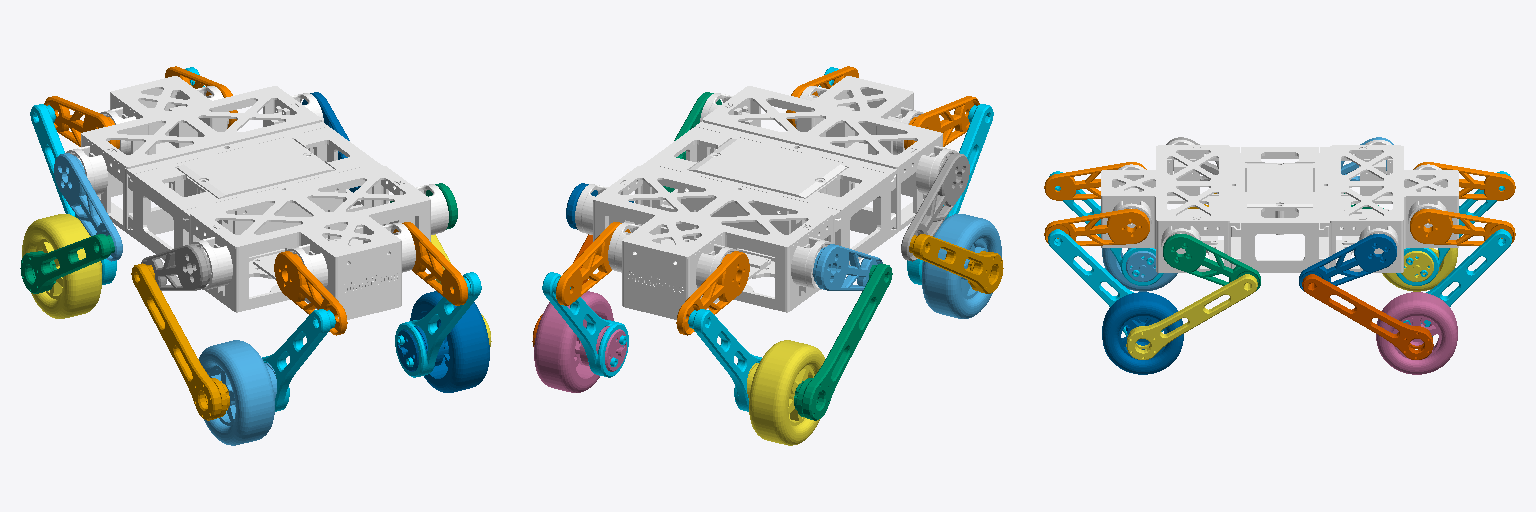
URDF robot description (stackforce_quadrupedal_wheeled_robot):
<?xml version='1.0' encoding='utf-8'?>
<robot name="stackforce_quadrupedal_wheeled_robot">
  <material name="white">
    <color rgba="1.0 1.0 1.0 1.0" />
  </material>
  <link name="base_link">
    <inertial>
      <origin xyz="0 0 0.02578814" rpy="0 0 0" />
      <mass value="0.87613947" />
      <inertia ixx="0.00641206" ixy="0.00001082" ixz="0.0" iyy="0.00176669" iyz="0.0" izz="0.00778386" />
    </inertial>
    <visual>
      <origin xyz="0 0 0" rpy="0 0 0" />
      <geometry>
        <mesh filename="../meshes/base_link.stl" />
      </geometry>
      <material name="white" />
    </visual>
    <collision>
      <origin xyz="0 0 -0.005" rpy="0 0 1.57" />
      <geometry>
        <box size="0.20 0.12 0.06" />
      </geometry>
    </collision>
  </link>
  <link name="FL_Outer_Thigh_Link">
    <inertial>
      <origin xyz="-0.01777009 0.00541634 -0.00866705" rpy="0 0 0" />
      <mass value="0.016" />
      <inertia ixx="0.00000245" ixy="0.00000007" ixz="-0.00000288" iyy="0.00000926" iyz="0.00000004" izz="0.00000695" />
    </inertial>
    <visual>
      <origin xyz="0 0 0" rpy="0 0 0" />
      <geometry>
        <mesh filename="../meshes/fl_outer_upper.stl" />
      </geometry>
    </visual>
    <collision>
      <origin xyz="-0.03 0.005 -0.013" rpy="0 -0.4 0" />
      <geometry>
        <box size="0.07 0.015 0.023" />
      </geometry>
    </collision>
  </link>
  <joint name="FL_Outer_Hip_Joint" type="revolute">
    <origin xyz="-0.0863 0.08 0.0063" rpy="0 0 1.5708" />
    <parent link="base_link" />
    <child link="FL_Outer_Thigh_Link" />
    <axis xyz="0 1 0" />
    <limit lower="-1.57" upper="1.57" effort="0.392" velocity="8.73" />
  </joint>
  <link name="FL_Outer_Calf_Link">
    <inertial>
      <origin xyz="0.04961562 0.00761681 -0.03100328" rpy="0 0 0" />
      <mass value="0.0176" />
      <inertia ixx="0.00000753" ixy="0.00000028" ixz="0.00001073" iyy="0.00002521" iyz="-0.00000017" izz="0.000018" />
    </inertial>
    <visual>
      <origin xyz="0 0 0" rpy="0 0 0" />
      <geometry>
        <mesh filename="../meshes/fl_outer_lower.stl" />
      </geometry>
    </visual>
    <collision>
      <origin xyz="0.05 0.007 -0.03" rpy="0 0.55 0" />
      <geometry>
        <box size="0.11 0.01 0.02" />
      </geometry>
    </collision>
  </link>
  <joint name="FL_Outer_Knee_Joint" type="revolute">
    <origin xyz="-0.053928 0.005 -0.026302" rpy="0 0 0" />
    <parent link="FL_Outer_Thigh_Link" />
    <child link="FL_Outer_Calf_Link" />
    <axis xyz="0 1 0" />
    <limit lower="-3.14159265359" upper="3.14159265359" effort="0.392" velocity="8.73" />
  </joint>
  <link name="FL_Foot_Link">
    <inertial>
      <origin xyz="0 -0.03564019 0" rpy="0 0 0" />
      <mass value="0.0855" />
      <inertia ixx="0.00002174" ixy="0" ixz="0" iyy="0.00002017" iyz="0" izz="0.00002172" />
    </inertial>
    <visual>
      <origin xyz="0 0 0" rpy="0 0 0" />
      <geometry>
        <mesh filename="../meshes/fl_foot.stl" />
      </geometry>
    </visual>
    <collision>
      <origin xyz="0 0 0" rpy="0 0 0" />
      <geometry>
        <mesh filename="../meshes/fl_foot.stl" />
      </geometry>
    </collision>
  </link>
  <joint name="FL_Wheel_Joint" type="revolute">
    <origin xyz="0.084805 0.006 -0.052992" rpy="0 0 0" />
    <parent link="FL_Outer_Calf_Link" />
    <child link="FL_Foot_Link" />
    <axis xyz="0 1 0" />
    <limit lower="-999999" upper="999999" effort="1" velocity="40" />
  </joint>
  <link name="FR_Outer_Thigh_Link">
    <inertial>
      <origin xyz="-0.01777009 -0.00541634 -0.00866705" rpy="0 0 0" />
      <mass value="0.016" />
      <inertia ixx="0.00000245" ixy="-0.00000007" ixz="-0.00000288" iyy="0.00000926" iyz="-0.00000004" izz="0.00000695" />
    </inertial>
    <visual>
      <origin xyz="0 0 0" rpy="0 0 0" />
      <geometry>
        <mesh filename="../meshes/fr_outer_upper.stl" />
      </geometry>
    </visual>
    <collision>
      <origin xyz="-0.03 -0.005 -0.013" rpy="0 -0.4 0" />
      <geometry>
        <box size="0.07 0.015 0.023" />
      </geometry>
    </collision>
  </link>
  <joint name="FR_Outer_Hip_Joint" type="revolute">
    <origin xyz="0.0863 0.08 0.0063" rpy="0 0 1.5708" />
    <parent link="base_link" />
    <child link="FR_Outer_Thigh_Link" />
    <axis xyz="0 1 0" />
    <limit lower="-1.57" upper="1.57" effort="0.392" velocity="8.73" />
  </joint>
  <link name="FR_Outer_Calf_Link">
    <inertial>
      <origin xyz="0.04961563 -0.00761681 -0.03100328" rpy="0 0 0" />
      <mass value="0.0176" />
      <inertia ixx="0.00000753" ixy="-0.00000028" ixz="0.00001073" iyy="0.00002521" iyz="0.00000017" izz="0.000018" />
    </inertial>
    <visual>
      <origin xyz="0 0 0" rpy="0 0 0" />
      <geometry>
        <mesh filename="../meshes/fr_outer_lower.stl" />
      </geometry>
    </visual>
    <collision>
      <origin xyz="0.05 -0.007 -0.03" rpy="0 0.55 0" />
      <geometry>
        <box size="0.11 0.01 0.02" />
      </geometry>
    </collision>
  </link>
  <joint name="FR_Outer_Knee_Joint" type="revolute">
    <origin xyz="-0.053928 -0.005 -0.026302" rpy="0 0 0" />
    <parent link="FR_Outer_Thigh_Link" />
    <child link="FR_Outer_Calf_Link" />
    <axis xyz="0 1 0" />
    <limit lower="-3.14159265359" upper="3.14159265359" effort="0.392" velocity="8.73" />
  </joint>
  <link name="FR_Foot_Link">
    <inertial>
      <origin xyz="0 0.03564019 0" rpy="0 0 0" />
      <mass value="0.0855" />
      <inertia ixx="0.00002174" ixy="0" ixz="0" iyy="0.00002017" iyz="0" izz="0.00002172" />
    </inertial>
    <visual>
      <origin xyz="0 0 0" rpy="0 0 0" />
      <geometry>
        <mesh filename="../meshes/fr_foot.stl" />
      </geometry>
    </visual>
    <collision>
      <origin xyz="0 0 0" rpy="0 0 0" />
      <geometry>
        <mesh filename="../meshes/fr_foot.stl" />
      </geometry>
    </collision>
  </link>
  <joint name="FR_Wheel_Joint" type="revolute">
    <origin xyz="0.084805 -0.006 -0.052992" rpy="0 0 0" />
    <parent link="FR_Outer_Calf_Link" />
    <child link="FR_Foot_Link" />
    <axis xyz="0 1 0" />
    <limit lower="-999999" upper="999999" effort="1" velocity="40" />
  </joint>
  <link name="RL_Outer_Thigh_Link">
    <inertial>
      <origin xyz="0.01777009 0.00541634 -0.00866705" rpy="0 0 0" />
      <mass value="0.016" />
      <inertia ixx="0.00000245" ixy="-0.00000007" ixz="0.00000288" iyy="0.00000926" iyz="0.00000004" izz="0.00000695" />
    </inertial>
    <visual>
      <origin xyz="0 0 0" rpy="0 0 0" />
      <geometry>
        <mesh filename="../meshes/rl_outer_upper.stl" />
      </geometry>
    </visual>
    <collision>
      <origin xyz="0.03 0.005 -0.013" rpy="0 0.4 0" />
      <geometry>
        <box size="0.07 0.015 0.023" />
      </geometry>
    </collision>
  </link>
  <joint name="RL_Outer_Hip_Joint" type="revolute">
    <origin xyz="-0.0863 -0.08 0.0063" rpy="0 0 1.5708" />
    <parent link="base_link" />
    <child link="RL_Outer_Thigh_Link" />
    <axis xyz="0 1 0" />
    <limit lower="-1.57" upper="1.57" effort="0.392" velocity="8.73" />
  </joint>
  <link name="RL_Outer_Calf_Link">
    <inertial>
      <origin xyz="-0.04961562 0.00761681 -0.03100328" rpy="0 0 0" />
      <mass value="0.0176" />
      <inertia ixx="0.00000753" ixy="-0.00000028" ixz="-0.00001073" iyy="0.00002521" iyz="-0.00000017" izz="0.000018" />
    </inertial>
    <visual>
      <origin xyz="0 0 0" rpy="0 0 0" />
      <geometry>
        <mesh filename="../meshes/rl_outer_lower.stl" />
      </geometry>
    </visual>
    <collision>
      <origin xyz="-0.05 0.007 -0.03" rpy="0 -0.55 0" />
      <geometry>
        <box size="0.11 0.01 0.02" />
      </geometry>
    </collision>
  </link>
  <joint name="RL_Outer_Knee_Joint" type="revolute">
    <origin xyz="0.053928 0.005 -0.026302" rpy="0 0 0" />
    <parent link="RL_Outer_Thigh_Link" />
    <child link="RL_Outer_Calf_Link" />
    <axis xyz="0 1 0" />
    <limit lower="-3.14159265359" upper="3.14159265359" effort="0.392" velocity="8.73" />
  </joint>
  <link name="RL_Foot_Link">
    <inertial>
      <origin xyz="0 -0.03564019 0" rpy="0 0 0" />
      <mass value="0.0855" />
      <inertia ixx="0.00002174" ixy="0" ixz="0" iyy="0.00002017" iyz="0" izz="0.00002172" />
    </inertial>
    <visual>
      <origin xyz="0 0 0" rpy="0 0 0" />
      <geometry>
        <mesh filename="../meshes/rl_foot.stl" />
      </geometry>
    </visual>
    <collision>
      <origin xyz="0 0 0" rpy="0 0 0" />
      <geometry>
        <mesh filename="../meshes/rl_foot.stl" />
      </geometry>
    </collision>
  </link>
  <joint name="RL_Wheel_Joint" type="revolute">
    <origin xyz="-0.084805 0.006 -0.052992" rpy="0 0 0" />
    <parent link="RL_Outer_Calf_Link" />
    <child link="RL_Foot_Link" />
    <axis xyz="0 1 0" />
    <limit lower="-999999" upper="999999" effort="1" velocity="40" />
  </joint>
  <link name="RR_Outer_Thigh_Link">
    <inertial>
      <origin xyz="0.01777009 -0.00541634 -0.00866705" rpy="0 0 0" />
      <mass value="0.016" />
      <inertia ixx="0.00000245" ixy="0.00000007" ixz="0.00000288" iyy="0.00000926" iyz="-0.00000004" izz="0.00000695" />
    </inertial>
    <visual>
      <origin xyz="0 0 0" rpy="0 0 0" />
      <geometry>
        <mesh filename="../meshes/rr_outer_upper.stl" />
      </geometry>
    </visual>
    <collision>
      <origin xyz="0.03 -0.005 -0.013" rpy="0 0.4 0" />
      <geometry>
        <box size="0.07 0.015 0.023" />
      </geometry>
    </collision>
  </link>
  <joint name="RR_Outer_Hip_Joint" type="revolute">
    <origin xyz="0.0863 -0.08 0.0063" rpy="0 0 1.5708" />
    <parent link="base_link" />
    <child link="RR_Outer_Thigh_Link" />
    <axis xyz="0 1 0" />
    <limit lower="-1.57" upper="1.57" effort="0.392" velocity="8.73" />
  </joint>
  <link name="RR_Outer_Calf_Link">
    <inertial>
      <origin xyz="-0.04961562 -0.00761681 -0.03100328" rpy="0 0 0" />
      <mass value="0.0176" />
      <inertia ixx="0.00000753" ixy="0.00000028" ixz="-0.00001073" iyy="0.00002521" iyz="0.00000017" izz="0.000018" />
    </inertial>
    <visual>
      <origin xyz="0 0 0" rpy="0 0 0" />
      <geometry>
        <mesh filename="../meshes/rr_outer_lower.stl" />
      </geometry>
    </visual>
    <collision>
      <origin xyz="-0.05 -0.007 -0.03" rpy="0 -0.55 0" />
      <geometry>
        <box size="0.11 0.01 0.02" />
      </geometry>
    </collision>
  </link>
  <joint name="RR_Outer_Knee_Joint" type="revolute">
    <origin xyz="0.053928 -0.005 -0.026302" rpy="0 0 0" />
    <parent link="RR_Outer_Thigh_Link" />
    <child link="RR_Outer_Calf_Link" />
    <axis xyz="0 1 0" />
    <limit lower="-3.14159265359" upper="3.14159265359" effort="0.392" velocity="8.73" />
  </joint>
  <link name="RR_Foot_Link">
    <inertial>
      <origin xyz="0 0.03564019 0" rpy="0 0 0" />
      <mass value="0.0855" />
      <inertia ixx="0.00002174" ixy="0" ixz="0" iyy="0.00002017" iyz="0" izz="0.00002172" />
    </inertial>
    <visual>
      <origin xyz="0 0 0" rpy="0 0 0" />
      <geometry>
        <mesh filename="../meshes/rr_foot.stl" />
      </geometry>
    </visual>
    <collision>
      <origin xyz="0 0 0" rpy="0 0 0" />
      <geometry>
        <mesh filename="../meshes/rr_foot.stl" />
      </geometry>
    </collision>
  </link>
  <joint name="RR_Wheel_Joint" type="revolute">
    <origin xyz="-0.084805 -0.006 -0.052992" rpy="0 0 0" />
    <parent link="RR_Outer_Calf_Link" />
    <child link="RR_Foot_Link" />
    <axis xyz="0 1 0" />
    <limit lower="-999999" upper="999999" effort="1" velocity="40" />
  </joint>
  <material name="inner_upper_yellow">
    <color rgba="1.0 0.55 0.0 1.0" />
  </material>
  <material name="inner_lower_cyan">
    <color rgba="0.0 0.85 1.0 1.0" />
  </material>
  <link name="FR_Inner_Thigh_Link">
    <inertial>
      <origin xyz="0.00450000216243 0.0278090037126 -0.0013947300043" rpy="0 0 0" />
      <mass value="0.016" />
      <inertia ixx="1.12047922055e-05" ixy="0" ixz="0" iyy="1.54145144863e-06" iyz="0" izz="9.87934556627e-06" />
    </inertial>
    <visual>
      <origin xyz="0 0 0" rpy="0 0 0" />
      <geometry>
        <mesh filename="../meshes/fr_inner_upper.stl" />
      </geometry>
      <material name="inner_upper_yellow" />
    </visual>
    <collision>
      <origin xyz="0 0 0" rpy="0 0 0" />
      <geometry>
        <mesh filename="../meshes/fr_inner_upper.stl" />
      </geometry>
    </collision>
  </link>
  <joint name="FR_Inner_Hip_Joint" type="revolute">
    <origin xyz="0.0387 0.12007 0.006372" rpy="0 0 0" />
    <parent link="base_link" />
    <child link="FR_Inner_Thigh_Link" />
    <axis xyz="0.999999999993 3.74314770824e-06 0" />
    <limit lower="-3.14159265359" upper="3.14159265359" effort="0.392" velocity="8.73" />
  </joint>
  <link name="FR_Inner_Calf_Link">
    <inertial>
      <origin xyz="0.013650277747 -0.0393966939209 -0.0412882533456" rpy="0 0 0" />
      <mass value="0.0176" />
      <inertia ixx="2.74219956869e-05" ixy="0" ixz="0" iyy="1.45328303828e-05" iyz="0" izz="1.34641067812e-05" />
    </inertial>
    <visual>
      <origin xyz="0 0 0" rpy="0 0 0" />
      <geometry>
        <mesh filename="../meshes/fr_inner_lower.stl" />
      </geometry>
      <material name="inner_lower_cyan" />
    </visual>
    <collision>
      <origin xyz="0 0 0" rpy="0 0 0" />
      <geometry>
        <mesh filename="../meshes/fr_inner_lower.stl" />
      </geometry>
    </collision>
  </link>
  <joint name="FR_Inner_Knee_Joint" type="revolute">
    <origin xyz="-2.23141383385e-07 0.0596132989602 -0.00680107249104" rpy="0 0 0" />
    <parent link="FR_Inner_Thigh_Link" />
    <child link="FR_Inner_Calf_Link" />
    <axis xyz="0.999999999993 3.74314770824e-06 0" />
    <limit lower="-3.14159265359" upper="3.14159265359" effort="0.392" velocity="8.73" />
  </joint>
  <link name="FR_Wheel_Frame" />
  <joint name="FR_Wheel_Frame_Joint" type="fixed">
    <origin xyz="1.38777878078e-17 0 0" rpy="0 0 0" />
    <parent link="FR_Foot_Link" />
    <child link="FR_Wheel_Frame" />
  </joint>
  <link name="FR_Closure_Frame" />
  <joint name="FR_Closure_Frame_Joint" type="fixed">
    <origin xyz="0.0136502603188 -0.0688064260397 -0.072564927509" rpy="0 0 0" />
    <parent link="FR_Inner_Calf_Link" />
    <child link="FR_Closure_Frame" />
  </joint>
  <link name="FL_Inner_Thigh_Link">
    <inertial>
      <origin xyz="-0.004500003804 0.0278090037126 -0.0013947300043" rpy="0 0 0" />
      <mass value="0.016" />
      <inertia ixx="1.12047922055e-05" ixy="0" ixz="0" iyy="1.54145144863e-06" iyz="0" izz="9.87934556627e-06" />
    </inertial>
    <visual>
      <origin xyz="0 0 0" rpy="0 0 0" />
      <geometry>
        <mesh filename="../meshes/fl_inner_upper.stl" />
      </geometry>
      <material name="inner_upper_yellow" />
    </visual>
    <collision>
      <origin xyz="0 0 0" rpy="0 0 0" />
      <geometry>
        <mesh filename="../meshes/fl_inner_upper.stl" />
      </geometry>
    </collision>
  </link>
  <joint name="FL_Inner_Hip_Joint" type="revolute">
    <origin xyz="-0.0387 0.12007 0.006372" rpy="0 0 0" />
    <parent link="base_link" />
    <child link="FL_Inner_Thigh_Link" />
    <axis xyz="-0.999999999993 3.74314770824e-06 0" />
    <limit lower="-3.14159265359" upper="3.14159265359" effort="0.392" velocity="8.73" />
  </joint>
  <link name="FL_Inner_Calf_Link">
    <inertial>
      <origin xyz="-0.0136502793885 -0.0393966939209 -0.0412882533456" rpy="0 0 0" />
      <mass value="0.0176" />
      <inertia ixx="2.74219956869e-05" ixy="0" ixz="0" iyy="1.45328303828e-05" iyz="0" izz="1.34641067812e-05" />
    </inertial>
    <visual>
      <origin xyz="0 0 0" rpy="0 0 0" />
      <geometry>
        <mesh filename="../meshes/fl_inner_lower.stl" />
      </geometry>
      <material name="inner_lower_cyan" />
    </visual>
    <collision>
      <origin xyz="0 0 0" rpy="0 0 0" />
      <geometry>
        <mesh filename="../meshes/fl_inner_lower.stl" />
      </geometry>
    </collision>
  </link>
  <joint name="FL_Inner_Knee_Joint" type="revolute">
    <origin xyz="2.23141383385e-07 0.0596132989602 -0.00680107249104" rpy="0 0 0" />
    <parent link="FL_Inner_Thigh_Link" />
    <child link="FL_Inner_Calf_Link" />
    <axis xyz="-0.999999999993 3.74314770824e-06 0" />
    <limit lower="-3.14159265359" upper="3.14159265359" effort="0.392" velocity="8.73" />
  </joint>
  <link name="FL_Wheel_Frame" />
  <joint name="FL_Wheel_Frame_Joint" type="fixed">
    <origin xyz="8.23483843476e-08 -2.31154651809e-07 0" rpy="0 0 0" />
    <parent link="FL_Foot_Link" />
    <child link="FL_Wheel_Frame" />
  </joint>
  <link name="FL_Closure_Frame" />
  <joint name="FL_Closure_Frame_Joint" type="fixed">
    <origin xyz="-0.0136502603188 -0.0688064260397 -0.072564927509" rpy="0 0 0" />
    <parent link="FL_Inner_Calf_Link" />
    <child link="FL_Closure_Frame" />
  </joint>
  <link name="RL_Inner_Thigh_Link">
    <inertial>
      <origin xyz="-0.004500003804 -0.027809001519 -0.0013947300043" rpy="0 0 0" />
      <mass value="0.016" />
      <inertia ixx="1.12047905046e-05" ixy="0" ixz="0" iyy="1.54145144863e-06" iyz="0" izz="9.87934386541e-06" />
    </inertial>
    <visual>
      <origin xyz="0 0 0" rpy="0 0 0" />
      <geometry>
        <mesh filename="../meshes/rl_inner_upper.stl" />
      </geometry>
      <material name="inner_upper_yellow" />
    </visual>
    <collision>
      <origin xyz="0 0 0" rpy="0 0 0" />
      <geometry>
        <mesh filename="../meshes/rl_inner_upper.stl" />
      </geometry>
    </collision>
  </link>
  <joint name="RL_Inner_Hip_Joint" type="revolute">
    <origin xyz="-0.0387 -0.12007 0.006372" rpy="0 0 0" />
    <parent link="base_link" />
    <child link="RL_Inner_Thigh_Link" />
    <axis xyz="-0.999999999993 -3.74314770824e-06 0" />
    <limit lower="-3.14159265359" upper="3.14159265359" effort="0.392" velocity="8.73" />
  </joint>
  <link name="RL_Inner_Calf_Link">
    <inertial>
      <origin xyz="-0.0136502793885 0.0393966961146 -0.0412882533456" rpy="0 0 0" />
      <mass value="0.0176" />
      <inertia ixx="2.74219936154e-05" ixy="0" ixz="0" iyy="1.45328303828e-05" iyz="0" izz="1.34641047096e-05" />
    </inertial>
    <visual>
      <origin xyz="0 0 0" rpy="0 0 0" />
      <geometry>
        <mesh filename="../meshes/rl_inner_lower.stl" />
      </geometry>
      <material name="inner_lower_cyan" />
    </visual>
    <collision>
      <origin xyz="0 0 0" rpy="0 0 0" />
      <geometry>
        <mesh filename="../meshes/rl_inner_lower.stl" />
      </geometry>
    </collision>
  </link>
  <joint name="RL_Inner_Knee_Joint" type="revolute">
    <origin xyz="2.23141383385e-07 -0.0596132989602 -0.00680107249104" rpy="0 0 0" />
    <parent link="RL_Inner_Thigh_Link" />
    <child link="RL_Inner_Calf_Link" />
    <axis xyz="-0.999999999993 -3.74314770824e-06 0" />
    <limit lower="-3.14159265359" upper="3.14159265359" effort="0.392" velocity="8.73" />
  </joint>
  <link name="RL_Wheel_Frame" />
  <joint name="RL_Wheel_Frame_Joint" type="fixed">
    <origin xyz="-1.38777878078e-17 0 0" rpy="0 0 0" />
    <parent link="RL_Foot_Link" />
    <child link="RL_Wheel_Frame" />
  </joint>
  <link name="RL_Closure_Frame" />
  <joint name="RL_Closure_Frame_Joint" type="fixed">
    <origin xyz="-0.0136502603188 0.0688064260397 -0.072564927509" rpy="0 0 0" />
    <parent link="RL_Inner_Calf_Link" />
    <child link="RL_Closure_Frame" />
  </joint>
  <link name="RR_Inner_Thigh_Link">
    <inertial>
      <origin xyz="0.00450000216243 -0.027809001519 -0.0013947300043" rpy="0 0 0" />
      <mass value="0.016" />
      <inertia ixx="1.12047905046e-05" ixy="0" ixz="0" iyy="1.54145144863e-06" iyz="0" izz="9.87934386541e-06" />
    </inertial>
    <visual>
      <origin xyz="0 0 0" rpy="0 0 0" />
      <geometry>
        <mesh filename="../meshes/rr_inner_upper.stl" />
      </geometry>
      <material name="inner_upper_yellow" />
    </visual>
    <collision>
      <origin xyz="0 0 0" rpy="0 0 0" />
      <geometry>
        <mesh filename="../meshes/rr_inner_upper.stl" />
      </geometry>
    </collision>
  </link>
  <joint name="RR_Inner_Hip_Joint" type="revolute">
    <origin xyz="0.0387 -0.12007 0.006372" rpy="0 0 0" />
    <parent link="base_link" />
    <child link="RR_Inner_Thigh_Link" />
    <axis xyz="0.999999999993 -3.74314770824e-06 0" />
    <limit lower="-3.14159265359" upper="3.14159265359" effort="0.392" velocity="8.73" />
  </joint>
  <link name="RR_Inner_Calf_Link">
    <inertial>
      <origin xyz="0.013650277747 0.0393966961146 -0.0412882533456" rpy="0 0 0" />
      <mass value="0.0176" />
      <inertia ixx="2.74219936154e-05" ixy="0" ixz="0" iyy="1.45328303828e-05" iyz="0" izz="1.34641047096e-05" />
    </inertial>
    <visual>
      <origin xyz="0 0 0" rpy="0 0 0" />
      <geometry>
        <mesh filename="../meshes/rr_inner_lower.stl" />
      </geometry>
      <material name="inner_lower_cyan" />
    </visual>
    <collision>
      <origin xyz="0 0 0" rpy="0 0 0" />
      <geometry>
        <mesh filename="../meshes/rr_inner_lower.stl" />
      </geometry>
    </collision>
  </link>
  <joint name="RR_Inner_Knee_Joint" type="revolute">
    <origin xyz="-2.23141383385e-07 -0.0596132989602 -0.00680107249104" rpy="0 0 0" />
    <parent link="RR_Inner_Thigh_Link" />
    <child link="RR_Inner_Calf_Link" />
    <axis xyz="0.999999999993 -3.74314770824e-06 0" />
    <limit lower="-3.14159265359" upper="3.14159265359" effort="0.392" velocity="8.73" />
  </joint>
  <link name="RR_Wheel_Frame" />
  <joint name="RR_Wheel_Frame_Joint" type="fixed">
    <origin xyz="-8.23483843476e-08 2.31154651809e-07 0" rpy="0 0 0" />
    <parent link="RR_Foot_Link" />
    <child link="RR_Wheel_Frame" />
  </joint>
  <link name="RR_Closure_Frame" />
  <joint name="RR_Closure_Frame_Joint" type="fixed">
    <origin xyz="0.0136502603188 0.0688064260397 -0.072564927509" rpy="0 0 0" />
    <parent link="RR_Inner_Calf_Link" />
    <child link="RR_Closure_Frame" />
  </joint>
</robot>

--- Facts derived from the render (not from the file) ---
Views: 3 orthographic renders of the robot side by side, from view 1: azimuth 30°, elevation 25°; view 2: azimuth 150°, elevation 25°; view 3: azimuth 270°, elevation 25°.
Model stackforce_quadrupedal_wheeled_robot with 29 links and 28 joints (20 revolute, 8 fixed), rooted at base_link, posed every joint at zero.
Visible links, largest first — view 1: base_link, RL_Foot_Link, RR_Foot_Link, FL_Foot_Link, RL_Outer_Calf_Link, FL_Outer_Thigh_Link, FL_Outer_Calf_Link, RR_Inner_Calf_Link, RL_Inner_Calf_Link, RL_Inner_Thigh_Link, RL_Outer_Thigh_Link, RR_Inner_Thigh_Link (+4 smaller); view 2: base_link, FL_Foot_Link, FR_Foot_Link, RL_Foot_Link, FL_Outer_Calf_Link, RL_Outer_Thigh_Link, RL_Outer_Calf_Link, FR_Inner_Calf_Link, FL_Inner_Calf_Link, FL_Inner_Thigh_Link, FL_Outer_Thigh_Link, FR_Inner_Thigh_Link (+4 smaller); view 3: base_link, RR_Foot_Link, FR_Foot_Link, FR_Outer_Calf_Link, RR_Outer_Calf_Link, FR_Inner_Thigh_Link, RR_Inner_Thigh_Link, RR_Outer_Thigh_Link, FR_Outer_Thigh_Link, FR_Inner_Calf_Link, RR_Inner_Calf_Link, FL_Foot_Link (+5 smaller).
Link boxes in pixels (x1,y1,x2,y2): base_link: (66, 76, 448, 319); RL_Foot_Link: (199, 340, 276, 445); RR_Foot_Link: (397, 291, 489, 392); FL_Foot_Link: (22, 214, 101, 318); RL_Outer_Calf_Link: (131, 263, 229, 420); FL_Outer_Thigh_Link: (54, 153, 122, 261); FL_Outer_Calf_Link: (20, 234, 114, 293); RR_Inner_Calf_Link: (395, 272, 481, 377); RL_Inner_Calf_Link: (262, 309, 335, 411); RL_Inner_Thigh_Link: (274, 251, 347, 335); RL_Outer_Thigh_Link: (141, 244, 210, 290); RR_Inner_Thigh_Link: (393, 222, 467, 305); base_link: (575, 76, 957, 319); FL_Foot_Link: (747, 340, 824, 445); FR_Foot_Link: (534, 291, 626, 392); RL_Foot_Link: (922, 214, 1001, 318); FL_Outer_Calf_Link: (794, 263, 892, 420); RL_Outer_Thigh_Link: (901, 153, 969, 261); RL_Outer_Calf_Link: (909, 234, 1003, 293); FR_Inner_Calf_Link: (542, 272, 628, 377); FL_Inner_Calf_Link: (688, 309, 761, 411); FL_Inner_Thigh_Link: (676, 251, 749, 335); FL_Outer_Thigh_Link: (813, 244, 882, 290); FR_Inner_Thigh_Link: (556, 222, 630, 305); base_link: (1101, 140, 1458, 272); RR_Foot_Link: (1102, 292, 1183, 374); FR_Foot_Link: (1376, 292, 1457, 374); FR_Outer_Calf_Link: (1302, 274, 1433, 359); RR_Outer_Calf_Link: (1126, 274, 1257, 359); FR_Inner_Thigh_Link: (1410, 209, 1515, 245); RR_Inner_Thigh_Link: (1044, 209, 1149, 245); RR_Outer_Thigh_Link: (1163, 234, 1260, 290); FR_Outer_Thigh_Link: (1299, 234, 1396, 290); FR_Inner_Calf_Link: (1403, 229, 1511, 336); RR_Inner_Calf_Link: (1048, 229, 1162, 335); FL_Foot_Link: (1382, 248, 1457, 291).
Size in the robot's own frame: 0.2066 by 0.3814 by 0.13 metres.
21 mesh visuals loaded from 21 distinct referenced files (21 binary STL).
